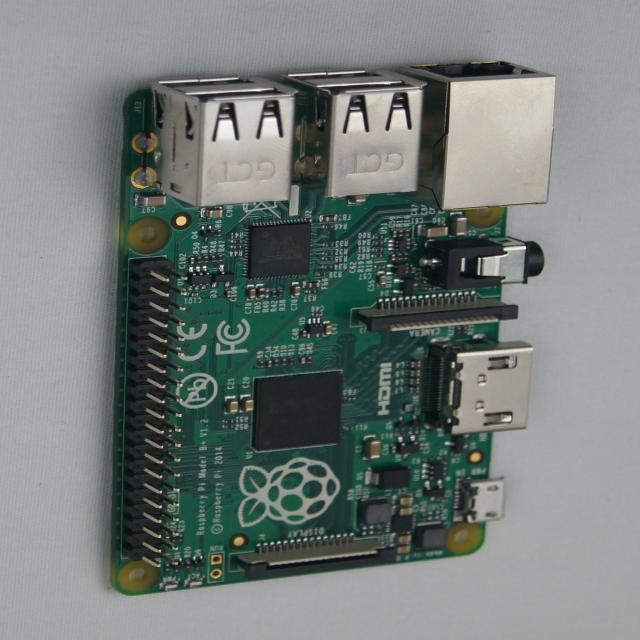Raspberry Pi 1 B-: (113, 61, 556, 595)
